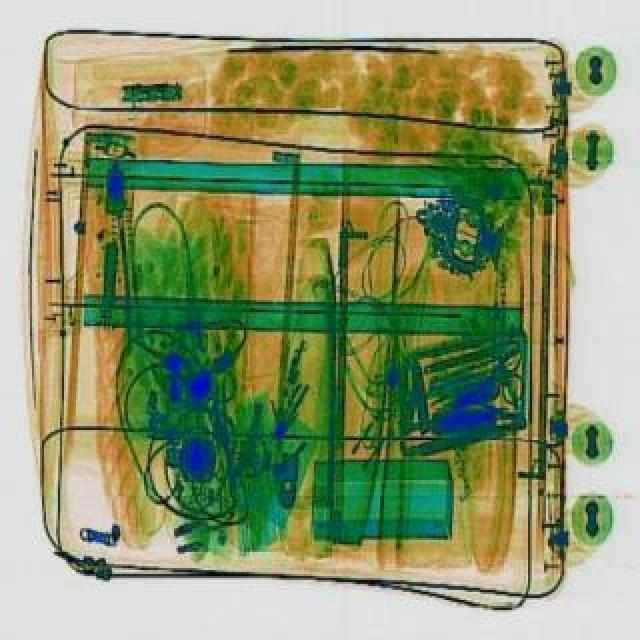pliers: (418, 342, 542, 436)
